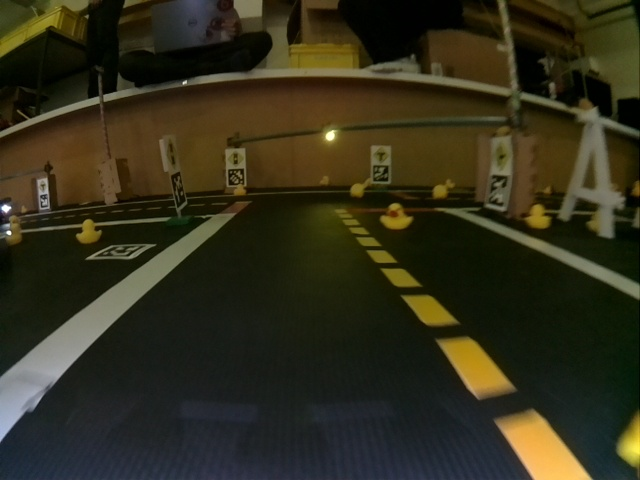Duckie: (380, 203, 412, 229), (527, 204, 551, 229), (77, 220, 101, 243), (6, 227, 22, 245), (350, 184, 363, 197), (434, 185, 448, 197), (234, 185, 245, 195)
Intersection sign: (492, 141, 509, 173), (372, 147, 389, 164)
QR code: (86, 245, 153, 260), (486, 176, 509, 210), (171, 174, 186, 211), (372, 165, 389, 182), (228, 169, 245, 185)
Signal sign: (163, 137, 178, 169), (226, 151, 245, 166)
Traffic light: (322, 125, 337, 141)
